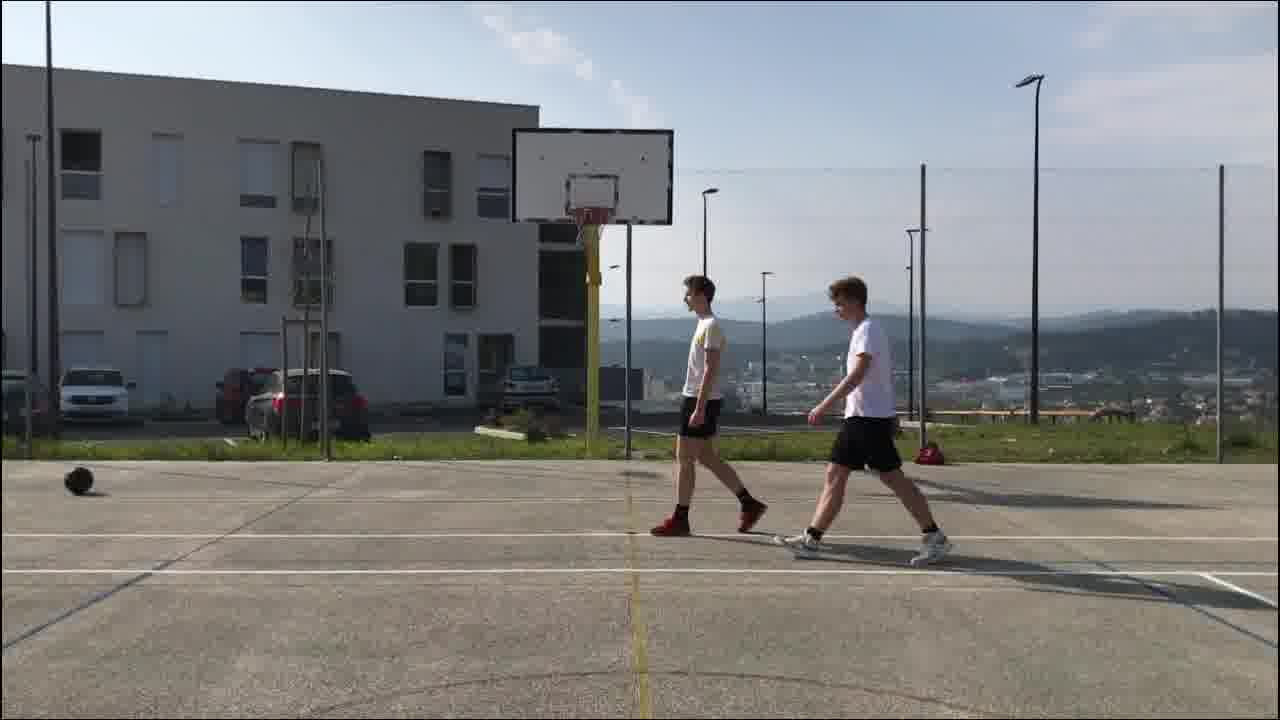jugador: (639, 265, 775, 549)
